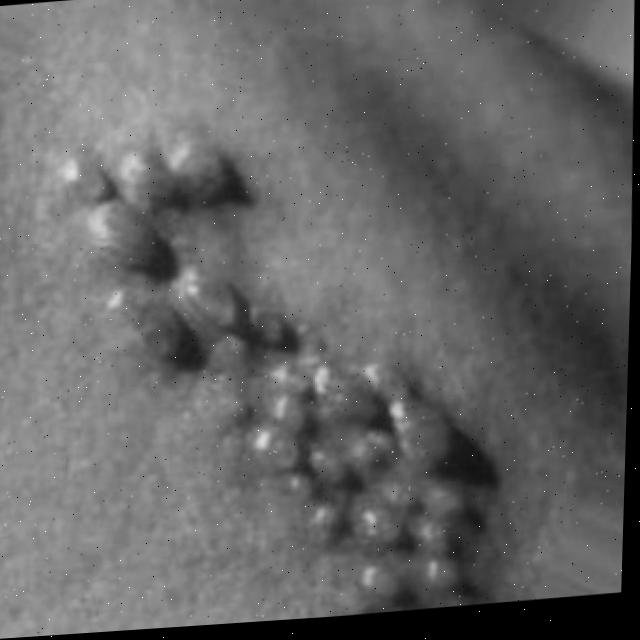Shingles: (56, 102, 510, 635)
